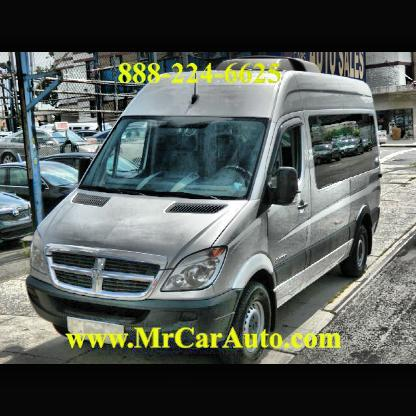Dodge Sprinter Cargo Van 2009: (25, 57, 387, 362)
